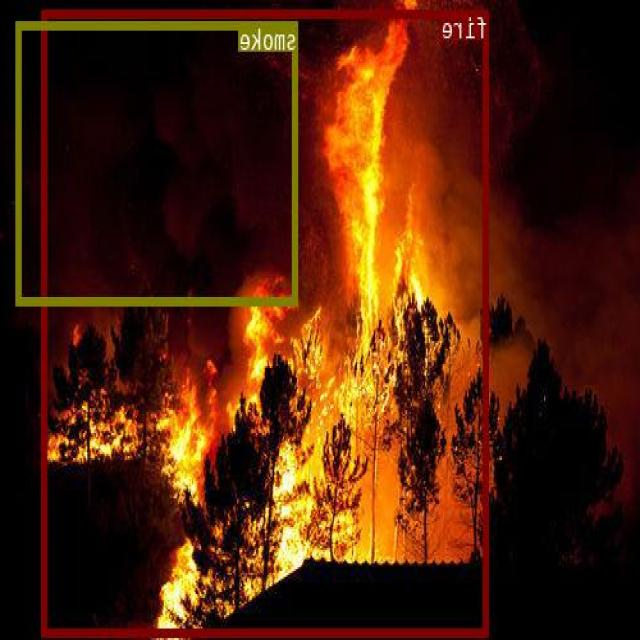fire: (44, 9, 489, 634)
smoke: (18, 21, 298, 303)
